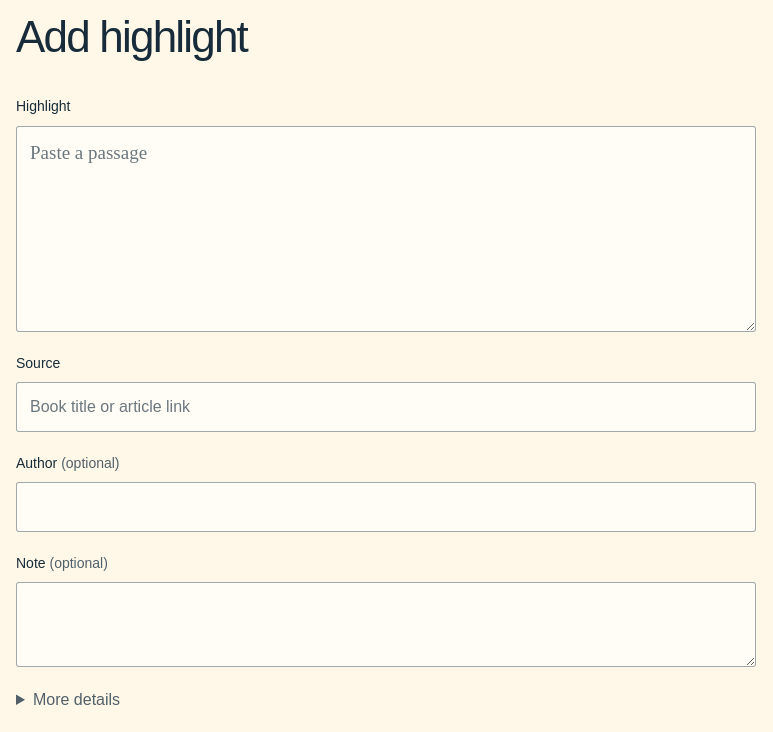
Test: reuses an existing article immediately when its link includes tracking or a text fragment
Type "https://example.com/story?utm_source=mail#:~:text=words" into the field labelled "Source" at [386, 407], box 16,382 -> 756,432
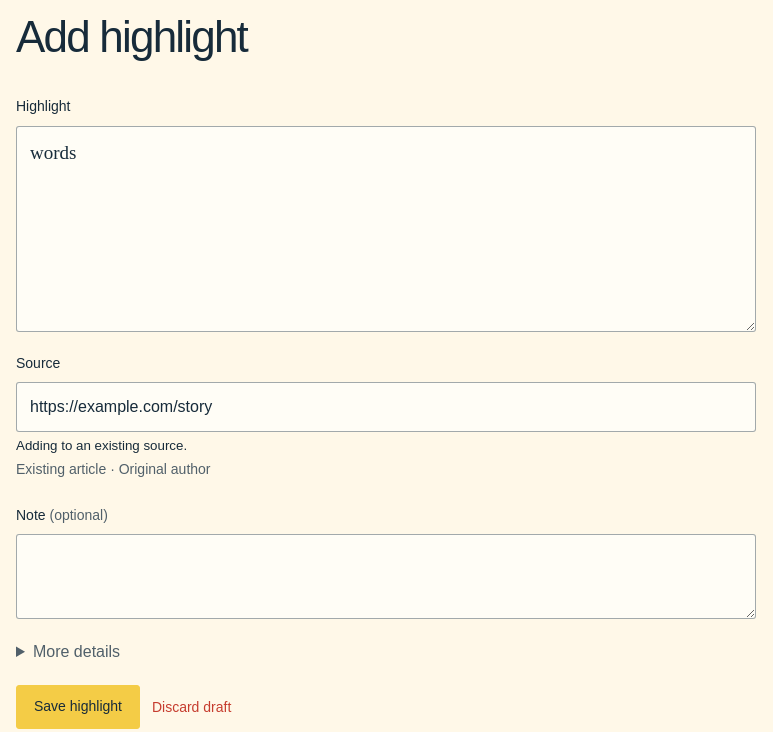
Now the text "Adding to an existing source." is shown, box 16,438 -> 187,453
